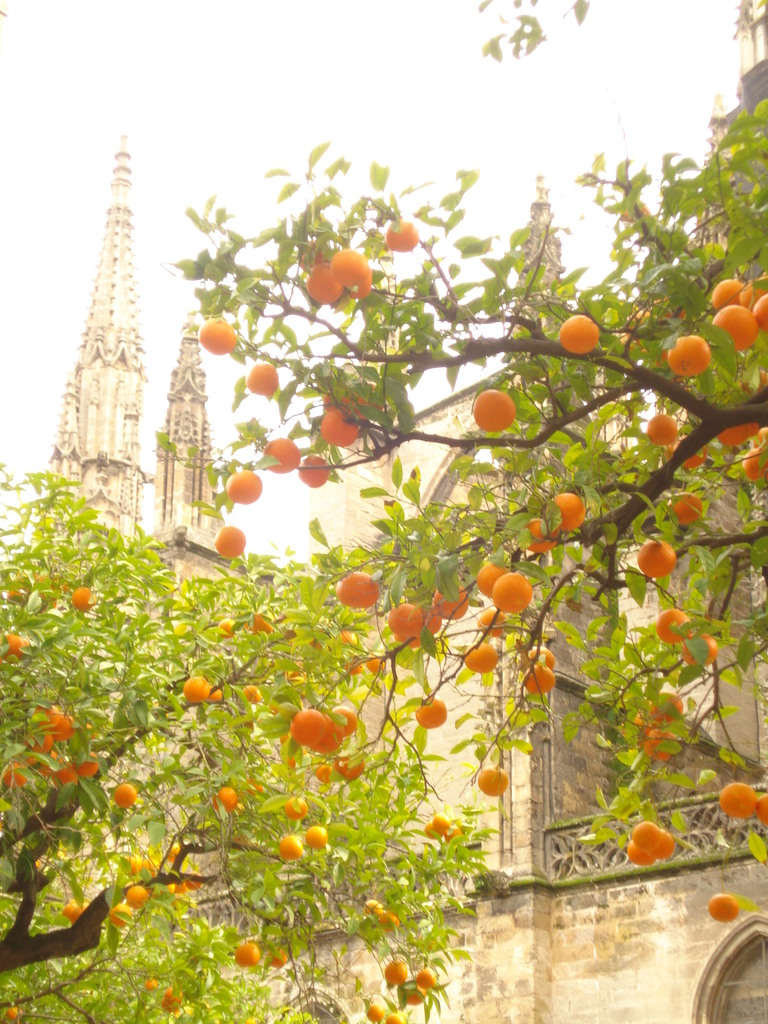Ripe: (305, 252, 370, 314), (662, 334, 718, 385), (709, 300, 753, 364), (722, 778, 767, 831), (632, 529, 675, 579), (489, 572, 536, 615), (625, 829, 675, 867), (321, 400, 360, 445), (559, 311, 601, 351), (291, 705, 321, 760), (475, 388, 520, 421), (547, 498, 580, 542), (200, 316, 234, 358), (232, 467, 265, 510), (394, 603, 431, 641), (326, 708, 358, 750), (662, 610, 690, 655), (417, 700, 449, 739), (211, 776, 234, 829), (348, 573, 386, 605), (415, 970, 444, 1009), (43, 710, 74, 746), (484, 557, 517, 589), (281, 834, 310, 870), (253, 356, 281, 393), (746, 288, 767, 337), (234, 939, 265, 972), (269, 442, 296, 477), (22, 734, 50, 767), (218, 516, 243, 552), (302, 458, 326, 493), (709, 278, 741, 304), (116, 772, 134, 815), (379, 230, 420, 248), (381, 956, 401, 991), (715, 888, 741, 913), (305, 820, 328, 844), (291, 797, 310, 825), (486, 767, 501, 797), (53, 755, 66, 787), (699, 636, 715, 662), (59, 902, 76, 925), (124, 886, 143, 904), (758, 797, 767, 829), (81, 760, 86, 771)
